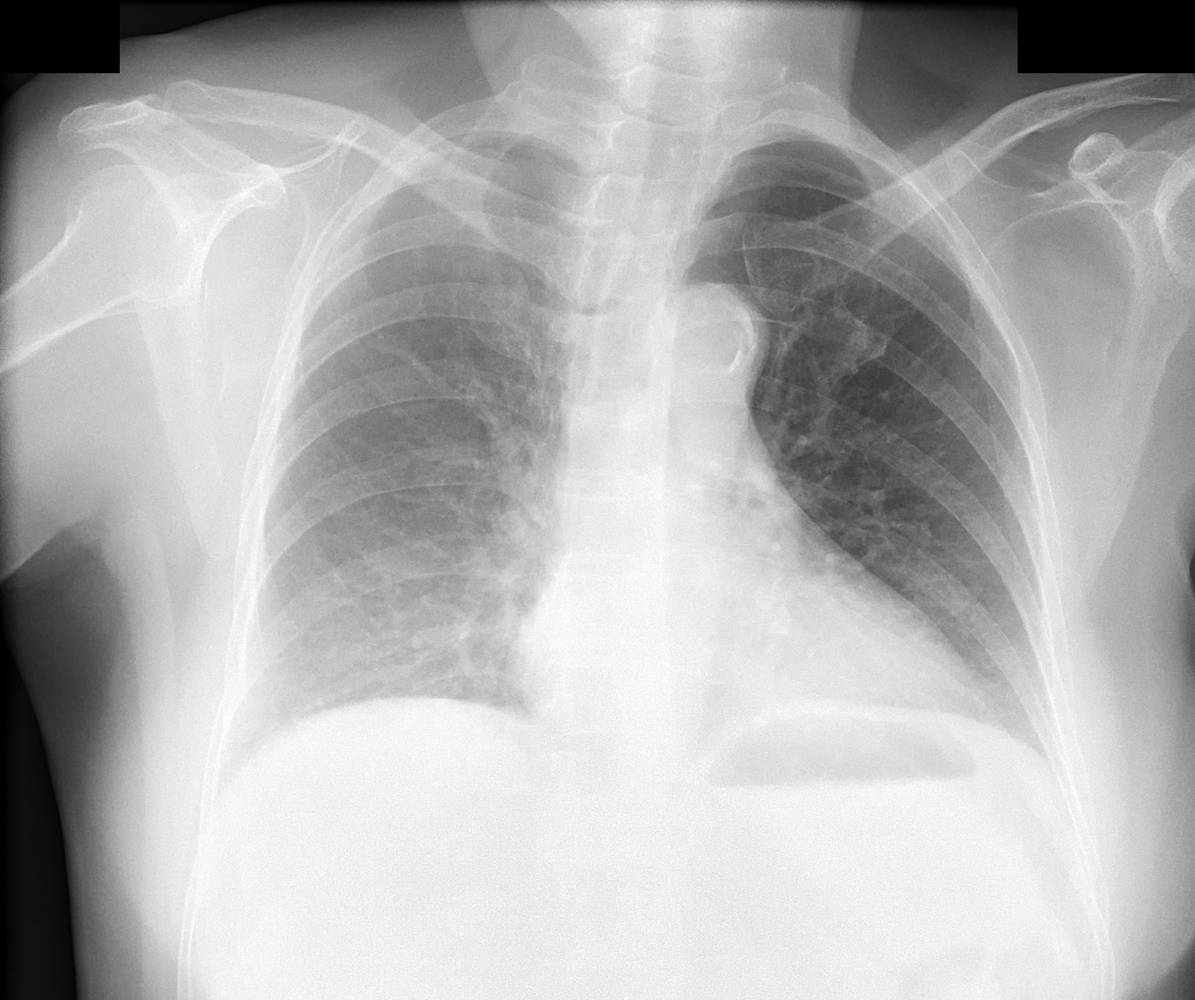Aortic enlargement: (652, 281, 766, 425)
Cardiomegaly: (512, 591, 990, 742)
